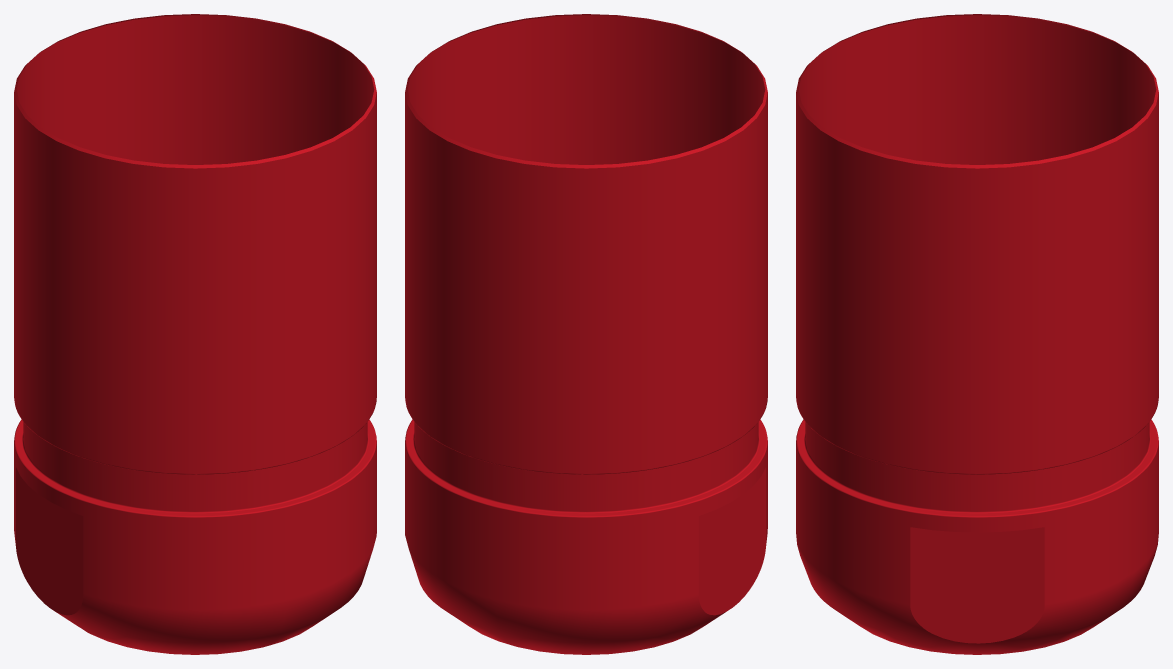
File: ur3e_scaled_48.obj
The picture shows the model from 3 angles, left to right: view 1: azimuth 30°, elevation 25°; view 2: azimuth 150°, elevation 25°; view 3: azimuth 270°, elevation 25°; orthographic projection.
Bounding box in the file's own units: 0.028 × 0.0433 × 0.028.
